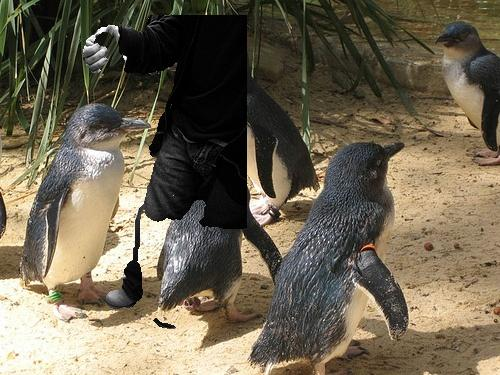tampered: (84, 16, 247, 329)
